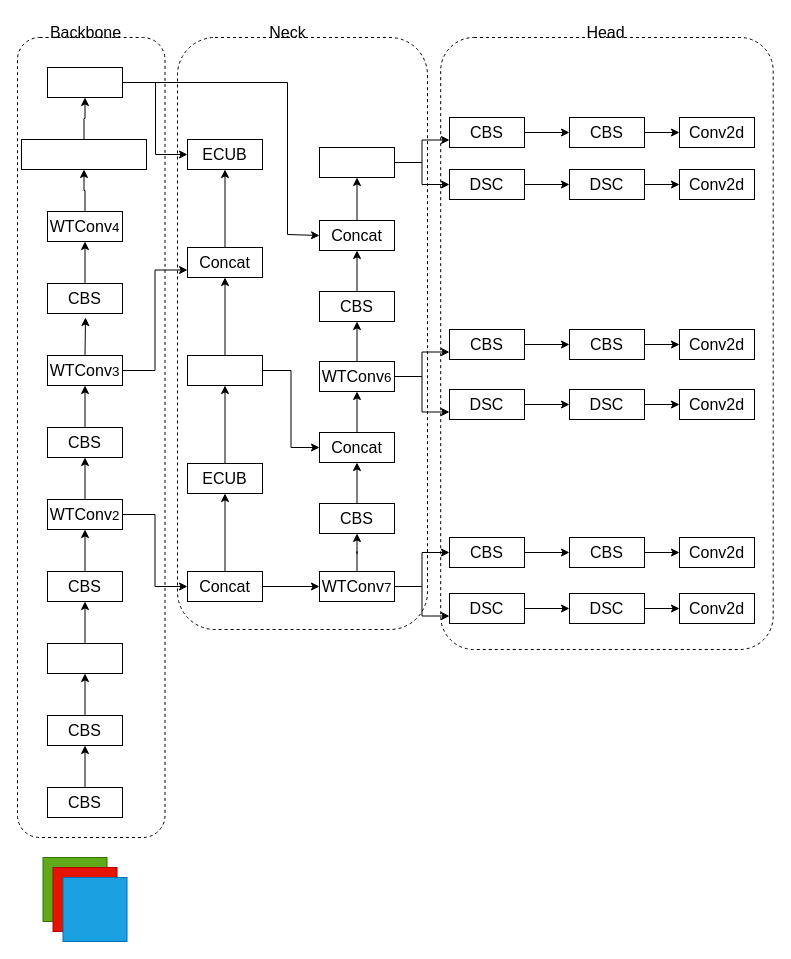
Image size: 791x959. Some labels were removed from this diagram. Here are the shapes that lost their labels. From the top down, the centre of each, then its label:
At [84,82]: "C2PSA".
At [83,154]: "FocalModulation".
At [356,162]: "WTConv 5".
At [224,370]: "C3K2".
At [84,658]: "WTConv 1".
